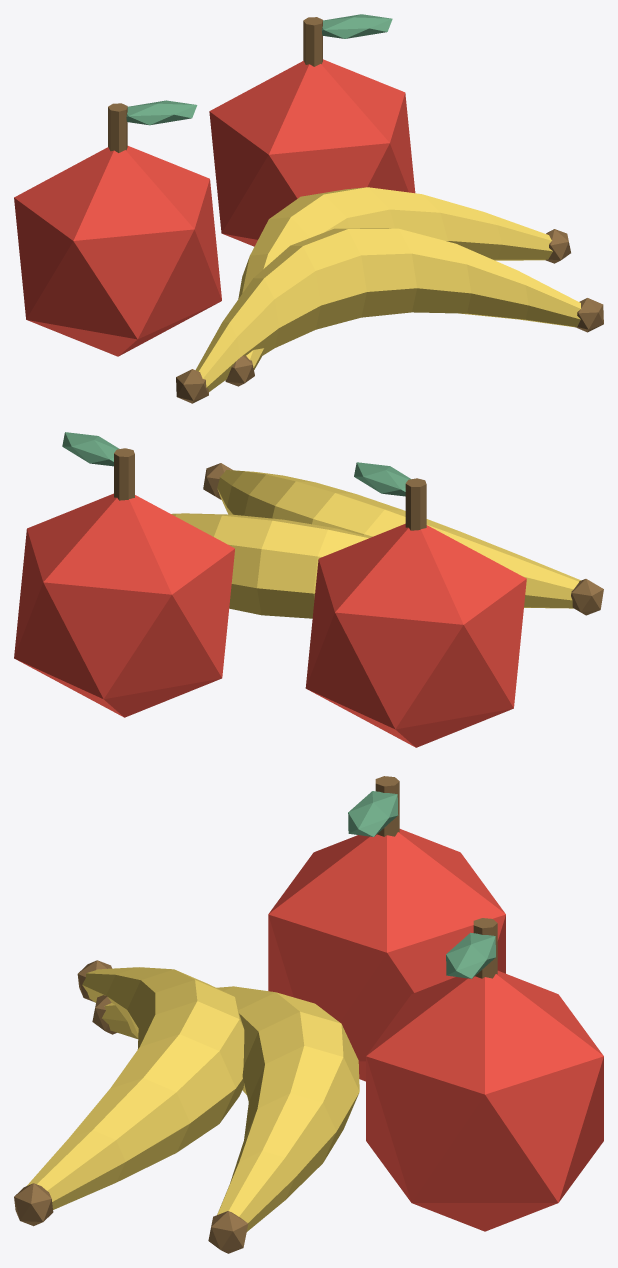
The model's file is food.glb.
3 views of the same model, one above another, from view 1: azimuth 30°, elevation 25°; view 2: azimuth 150°, elevation 25°; view 3: azimuth 270°, elevation 25° (orthographic). The views are drawn at different scales.
Visible parts, largest first — view 1: apple_0, banana_0, apple_1, banana_1, apple_leaf_0, apple_leaf_1, apple_stem_0, apple_stem_1, banana_0_tip_-1, banana_0_tip_1, banana_1_tip_-1, banana_1_tip_1; view 2: apple_0, apple_1, banana_0, banana_1, apple_leaf_0, apple_leaf_1, apple_stem_0, apple_stem_1, banana_0_tip_-1, banana_0_tip_1; view 3: apple_1, apple_0, banana_0, banana_1, apple_leaf_0, apple_leaf_1, banana_0_tip_1, banana_1_tip_1, apple_stem_1, apple_stem_0.
Part boxes in pixels (x1,y1,x2,y2): apple_0: (14, 146, 221, 356); banana_0: (196, 228, 581, 391); apple_1: (209, 59, 415, 246); banana_1: (238, 187, 552, 369); apple_leaf_0: (126, 100, 197, 125); apple_leaf_1: (322, 14, 392, 38); apple_stem_0: (108, 103, 127, 152); apple_stem_1: (303, 17, 322, 66); banana_0_tip_-1: (176, 369, 208, 403); banana_0_tip_1: (575, 298, 603, 332); banana_1_tip_-1: (225, 355, 254, 386); banana_1_tip_1: (545, 229, 570, 263); apple_0: (305, 523, 526, 747); apple_1: (14, 493, 234, 717); banana_0: (217, 470, 580, 608); banana_1: (171, 513, 370, 618); apple_leaf_0: (354, 462, 411, 496); apple_leaf_1: (62, 432, 119, 466); apple_stem_0: (405, 478, 426, 530); apple_stem_1: (114, 448, 134, 500); banana_0_tip_-1: (571, 579, 603, 615); banana_0_tip_1: (203, 463, 232, 499); apple_1: (366, 970, 603, 1231); apple_0: (268, 829, 505, 1081); banana_0: (27, 967, 244, 1209); banana_1: (102, 986, 359, 1231); apple_leaf_0: (348, 791, 398, 836); apple_leaf_1: (446, 932, 495, 978); banana_0_tip_1: (14, 1183, 53, 1226); banana_1_tip_1: (208, 1211, 248, 1253); apple_stem_1: (473, 918, 497, 978); apple_stem_0: (375, 776, 399, 836).
Bounding box in the file's own units: 0.4892 × 0.2435 × 0.4219.
